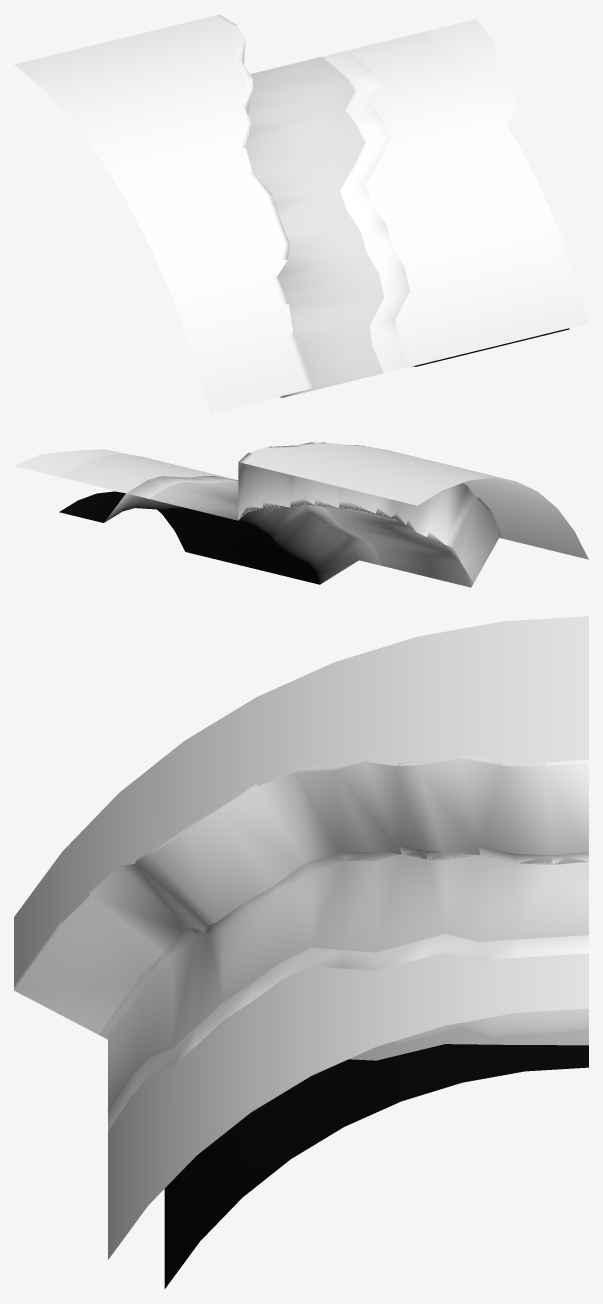
The model's file is grd_Mse_e_0.dae.
3 renders of one model, top to bottom at view 1: azimuth 30°, elevation 25°; view 2: azimuth 150°, elevation 25°; view 3: azimuth 270°, elevation 25°, orthographic. The views are drawn at different scales.
Visible parts, largest first — view 1: grass_3_0, ocean_4_0, beach_0_0, wave_5_0, beach_1_0, cliff_2_0; view 2: beach_1_0, grass_3_0, cliff_2_0, beach_0_0, ocean_4_0, wave_5_0; view 3: grass_3_0, cliff_2_0, ocean_4_0, beach_0_0, beach_1_0, wave_5_0.
Part boxes in pixels (left/top/right/bottom): grass_3_0: left=14, top=16, right=311, bottom=413; ocean_4_0: left=348, top=31, right=588, bottom=366; beach_0_0: left=246, top=56, right=384, bottom=398; wave_5_0: left=341, top=19, right=516, bottom=372; beach_1_0: left=322, top=50, right=569, bottom=373; cliff_2_0: left=213, top=14, right=312, bottom=397; beach_1_0: left=59, top=476, right=381, bottom=584; grass_3_0: left=244, top=442, right=588, bottom=559; cliff_2_0: left=238, top=442, right=501, bottom=587; beach_0_0: left=149, top=481, right=473, bottom=587; ocean_4_0: left=59, top=453, right=237, bottom=493; wave_5_0: left=14, top=449, right=378, bottom=563; grass_3_0: left=14, top=616, right=588, bottom=989; cliff_2_0: left=14, top=754, right=588, bottom=1039; ocean_4_0: left=108, top=952, right=588, bottom=1259; beach_0_0: left=99, top=845, right=588, bottom=1112; beach_1_0: left=108, top=934, right=588, bottom=1288; wave_5_0: left=108, top=934, right=588, bottom=1185.
Size of the model in its own units: 576 by 308 by 423.
6 materials, 1 textured.
